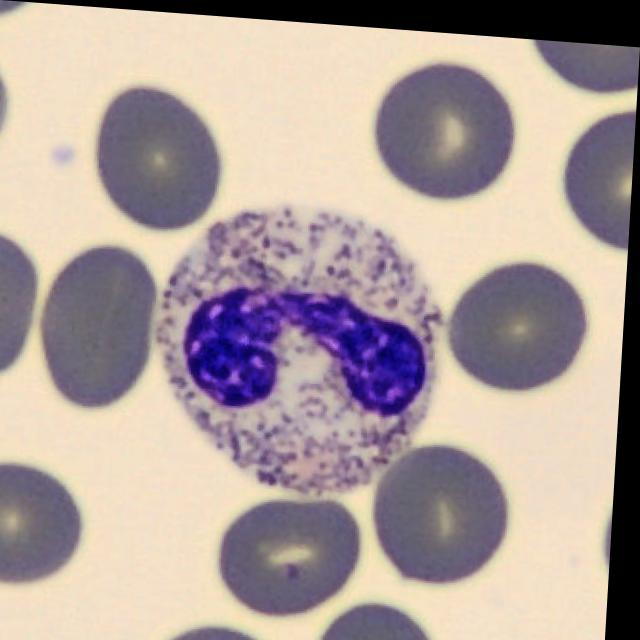Neutrofilo segmentado: (157, 197, 448, 494)
